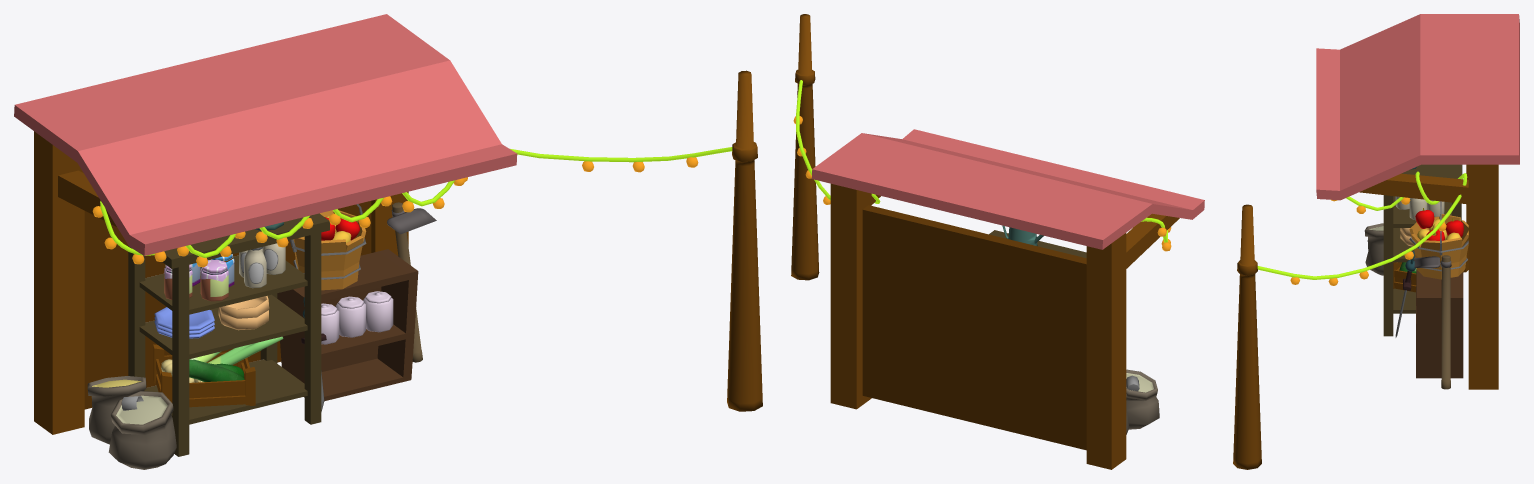
The model's file is KitchenSet1-optimized.glb.
3 renders of one model, left to right at view 1: azimuth 30°, elevation 25°; view 2: azimuth 150°, elevation 25°; view 3: azimuth 270°, elevation 25°, orthographic. The views are drawn at different scales.
Visible parts, largest first — view 1: Cylinder.003, Shelf1, Little Shelf, Flour, Box, Cylinder.017, Flour2, Cylinder.026, Cylinder.025, Cylinder.021, Cylinder.034, Milk (+2 smaller); view 2: Cylinder.003, Flour, WaterCan; view 3: Cylinder.003, Little Shelf, Shelf1, Cylinder.017, Cylinder.026, Flour, Box, Cube.007.
Boxes of the visible parts, x1=… form: Cylinder.003: x1=14, y1=14, x2=762, y2=434; Shelf1: x1=128, y1=213, x2=329, y2=456; Little Shelf: x1=277, y1=249, x2=418, y2=401; Flour: x1=108, y1=391, x2=176, y2=469; Box: x1=153, y1=344, x2=255, y2=407; Cylinder.017: x1=289, y1=204, x2=366, y2=290; Flour2: x1=87, y1=376, x2=146, y2=444; Cylinder.026: x1=387, y1=202, x2=436, y2=362; Cylinder.025: x1=200, y1=259, x2=228, y2=301; Cylinder.021: x1=363, y1=291, x2=393, y2=332; Cylinder.034: x1=335, y1=296, x2=365, y2=337; Milk: x1=244, y1=247, x2=266, y2=288; Cylinder.003: x1=791, y1=14, x2=1204, y2=469; Flour: x1=1126, y1=369, x2=1159, y2=429; WaterCan: x1=1002, y1=225, x2=1043, y2=246; Cylinder.003: x1=1233, y1=14, x2=1519, y2=469; Little Shelf: x1=1416, y1=269, x2=1463, y2=378; Shelf1: x1=1383, y1=164, x2=1462, y2=336; Cylinder.017: x1=1409, y1=201, x2=1468, y2=279; Cylinder.026: x1=1414, y1=255, x2=1451, y2=389; Flour: x1=1364, y1=223, x2=1383, y2=275; Box: x1=1393, y1=246, x2=1468, y2=292; Cube.007: x1=1395, y1=251, x2=1415, y2=337.
Size of the model in its own units: 35.6 by 19.68 by 19.83.
Materials: 6 (6 with a texture image).
